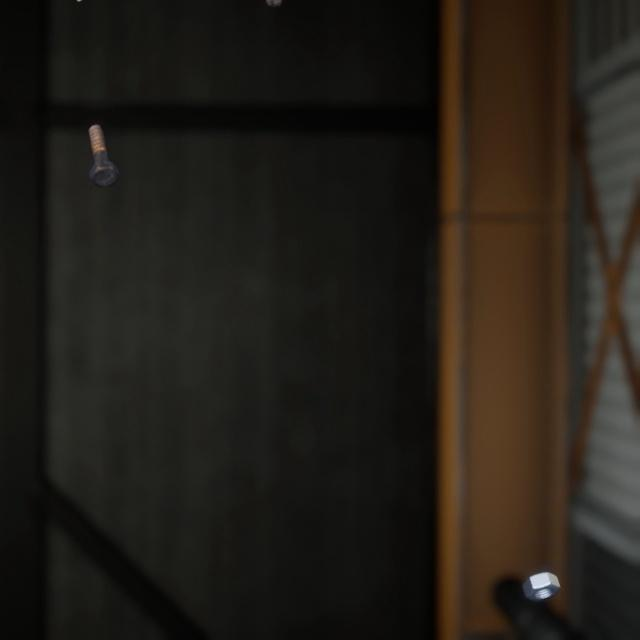bolt: (84, 107, 123, 177)
nut: (518, 544, 565, 582)
